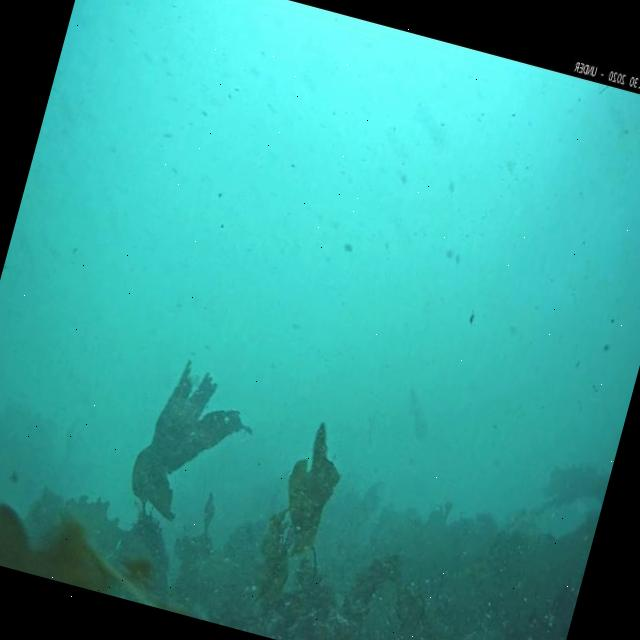fish: (398, 388, 437, 442)
